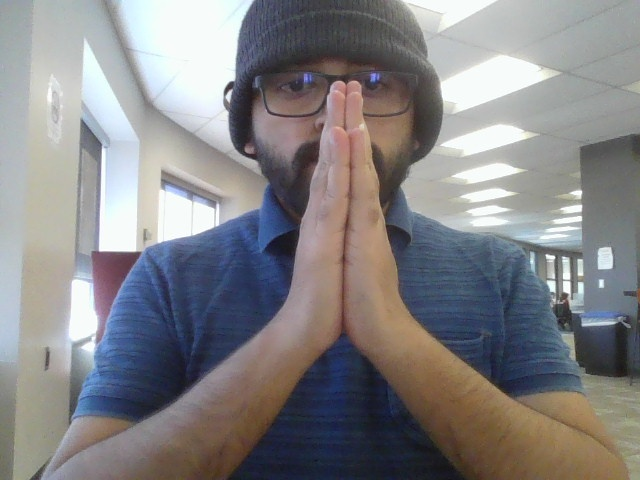start: (285, 79, 417, 378)
